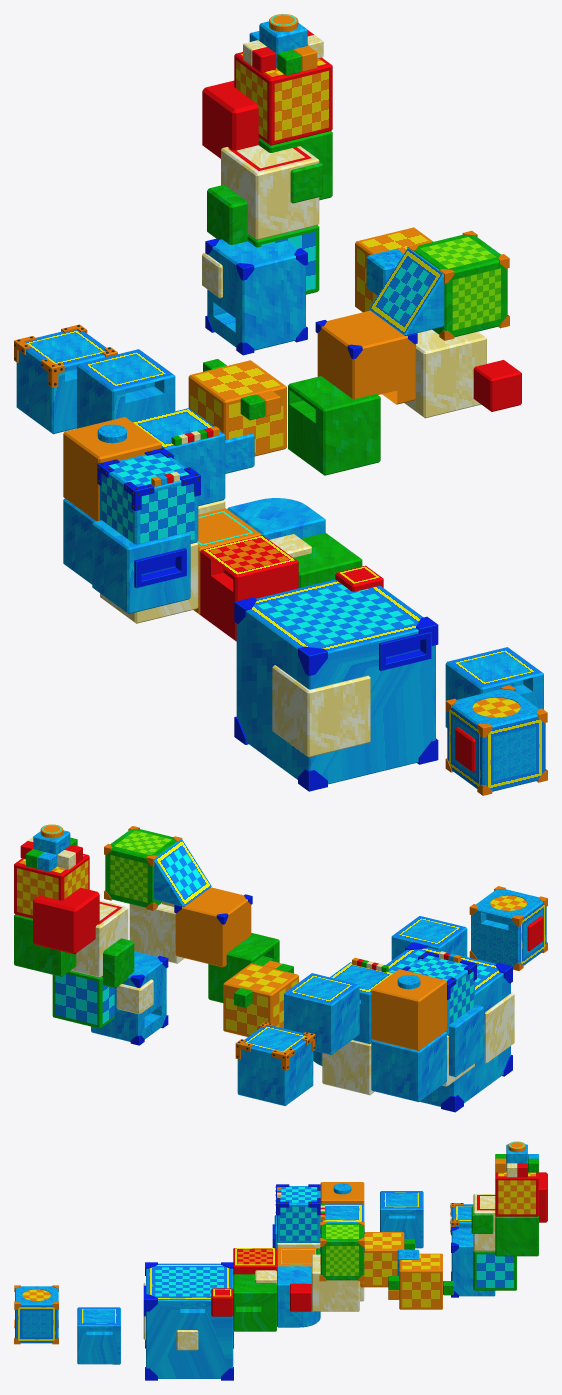
File: level.obj
3 views of the same model, one above another, from view 1: azimuth 30°, elevation 25°; view 2: azimuth 150°, elevation 25°; view 3: azimuth 270°, elevation 25° (orthographic). The views are drawn at different scales.
Parts seen in each view (by area): view 1: blue; view 2: blue; view 3: blue.
Boxes of the visible parts, left/top/right/bottom form: blue: left=14, top=14, right=547, bottom=795; blue: left=14, top=824, right=547, bottom=1112; blue: left=14, top=1141, right=547, bottom=1380.
Size of the model in its own units: 74.5 by 78.67 by 135.
Materials: 16 (16 with a texture image).
